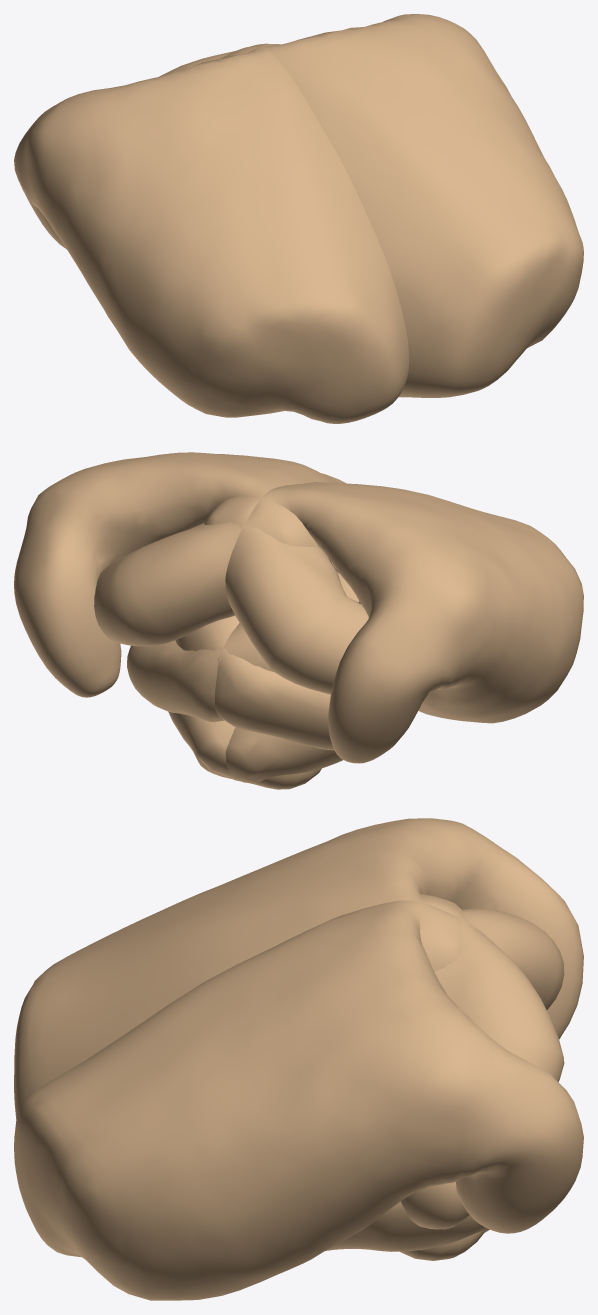
Rendered from hands_fists.glb.
3 renders of one model, top to bottom at view 1: azimuth 30°, elevation 25°; view 2: azimuth 150°, elevation 25°; view 3: azimuth 270°, elevation 25°, orthographic. The views are drawn at different scales.
Visible parts, largest first — view 1: right_hand, left_hand; view 2: right_hand, left_hand; view 3: left_hand, right_hand.
Part boxes in pixels (x1,y1,x2,y2): right_hand: (14, 44, 409, 423); left_hand: (222, 14, 583, 397); right_hand: (168, 482, 583, 789); left_hand: (14, 452, 359, 782); left_hand: (14, 894, 583, 1300); right_hand: (14, 818, 583, 1251).
Size of the model in its own units: 0.1287 by 0.0781 by 0.1164.
